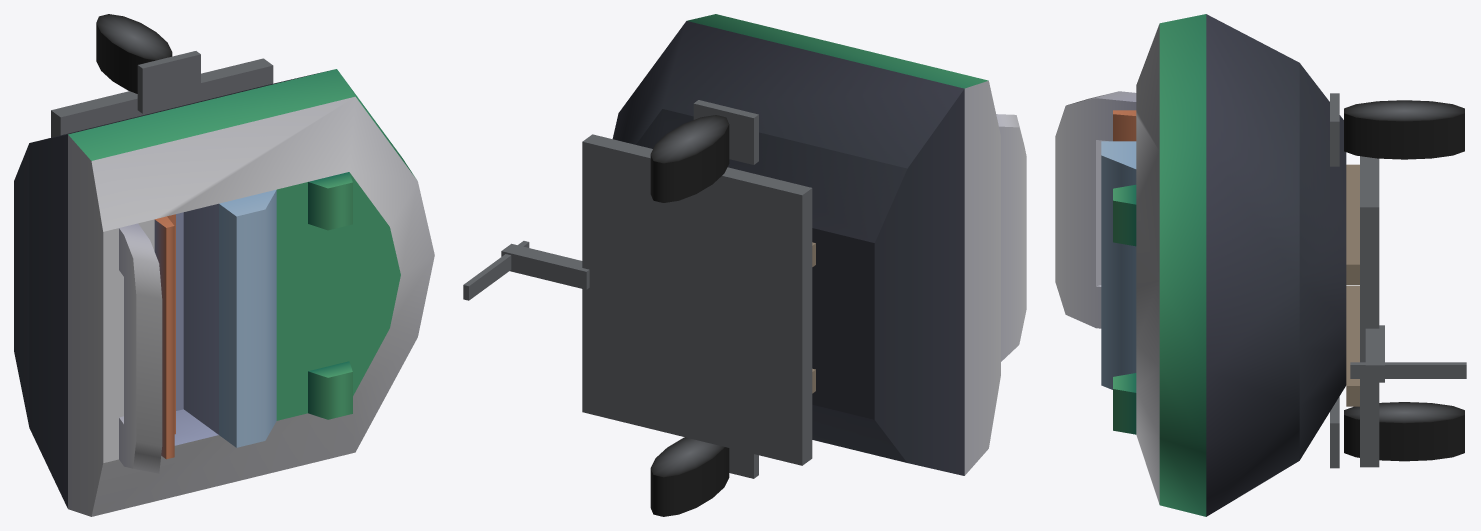
File: boat-trailer.glb
The picture shows the model from 3 angles, left to right: view 1: azimuth 30°, elevation 25°; view 2: azimuth 150°, elevation 25°; view 3: azimuth 270°, elevation 25°; orthographic projection. The views are drawn at different scales.
Visible parts, largest first — view 1: vehicle/boat-trailer; view 2: vehicle/boat-trailer; view 3: vehicle/boat-trailer.
Boxes of the visible parts, box(x1,y1,x2,y2) form: vehicle/boat-trailer: box(14, 14, 434, 516); vehicle/boat-trailer: box(463, 14, 1026, 516); vehicle/boat-trailer: box(1055, 14, 1466, 516).
Size of the model in its own units: 1 by 1 by 1.
